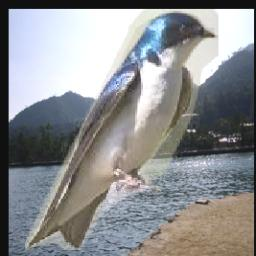Swallow: (25, 9, 219, 250)
